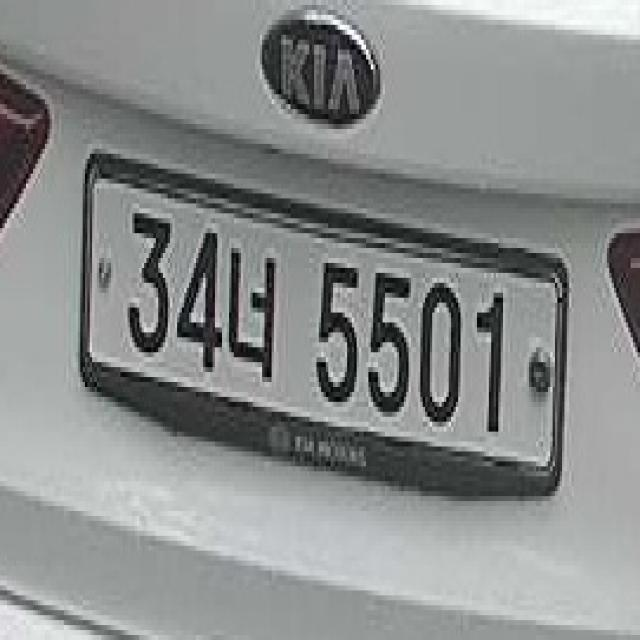0: (418, 283, 463, 427)
1: (477, 293, 508, 442)
3: (126, 208, 172, 362)
4: (172, 223, 222, 382)
5: (366, 268, 411, 422), (316, 258, 362, 407)
license_plate: (78, 144, 569, 496)
neo: (224, 243, 279, 382)
